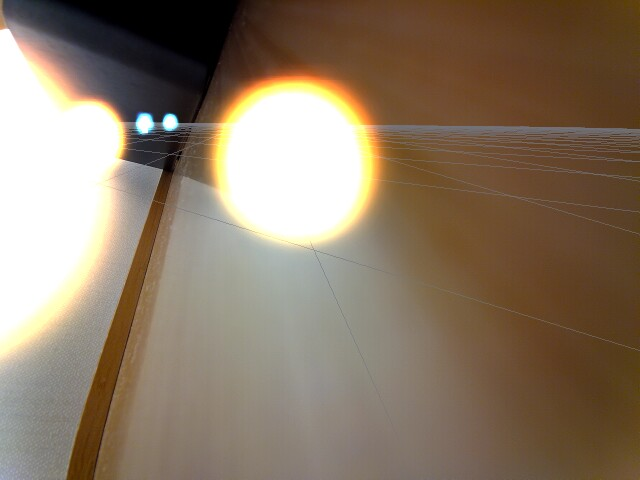firebig: (0, 25, 80, 362)
